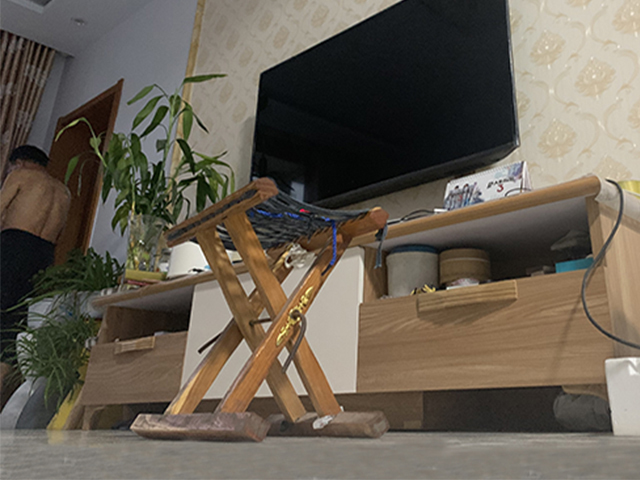cabinet: (79, 171, 640, 434)
stool: (128, 175, 392, 443)
wire: (571, 178, 637, 353)
